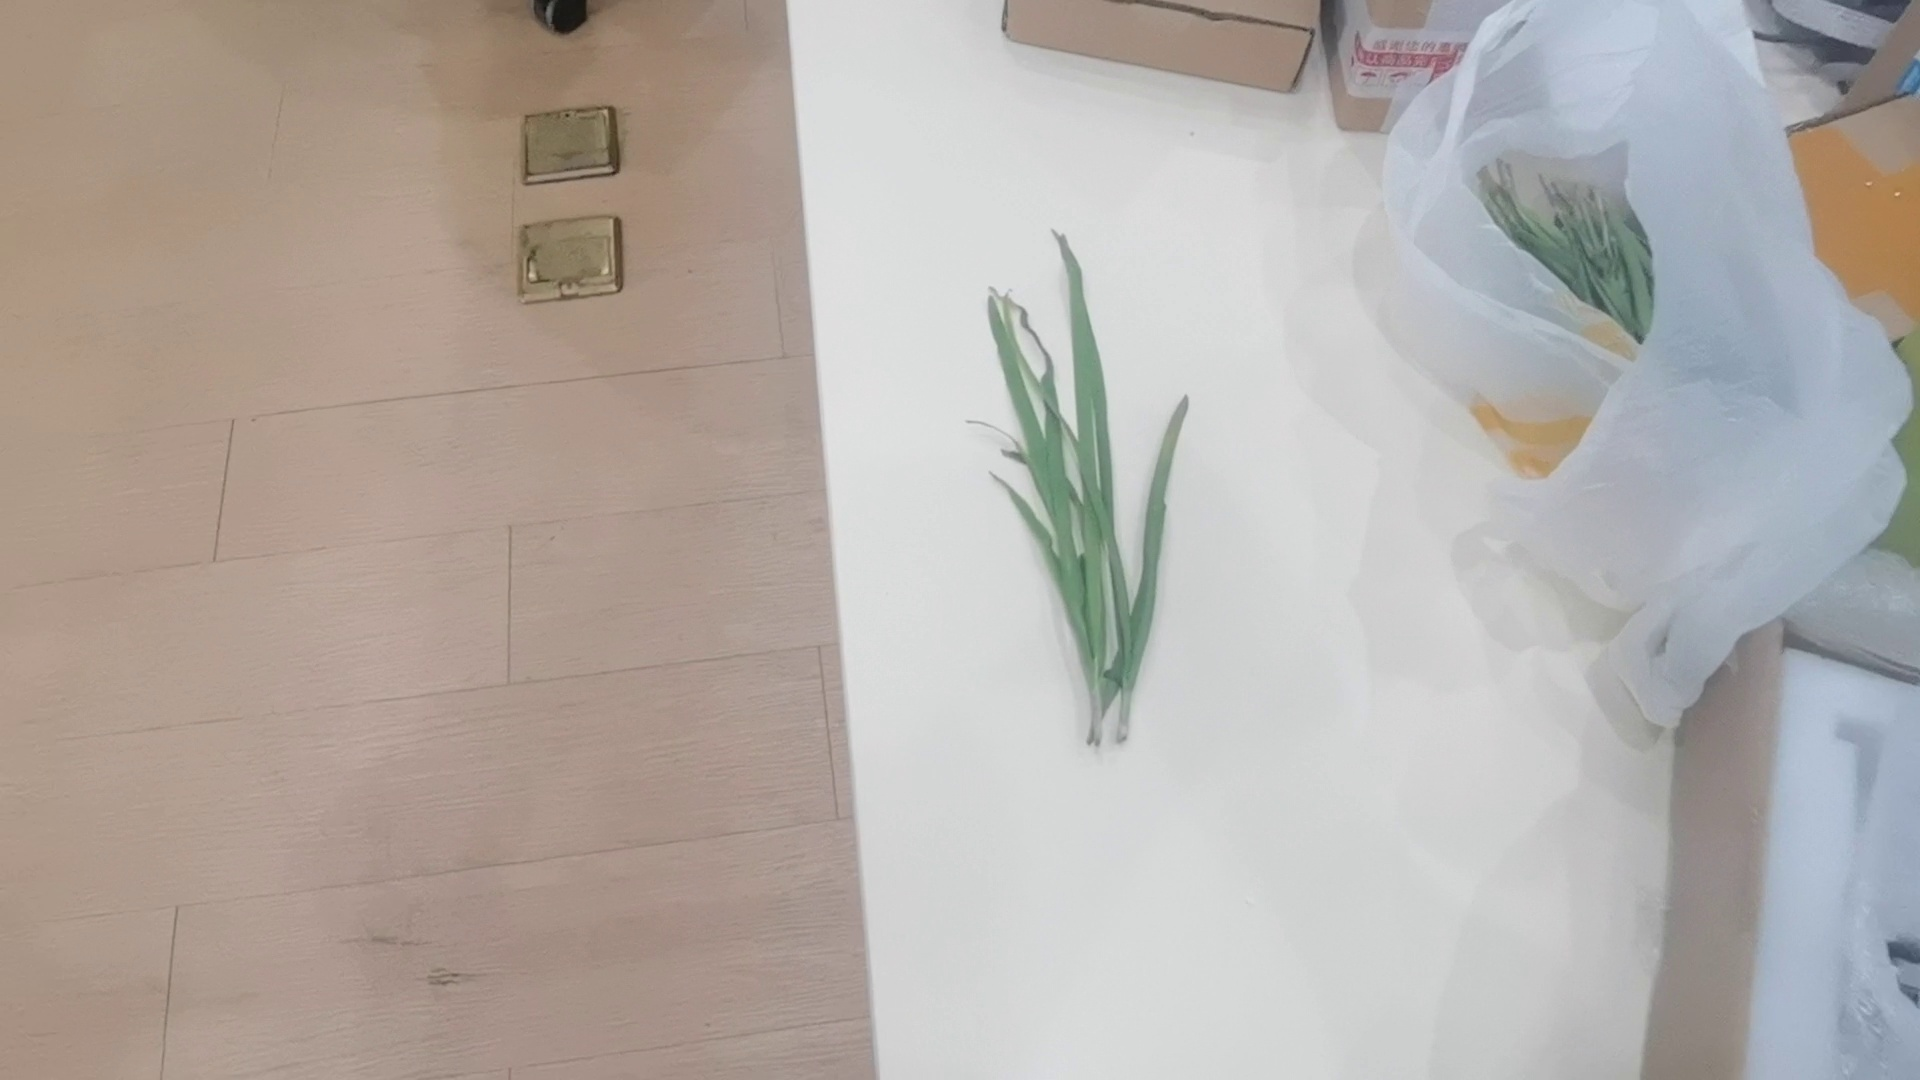chives: (967, 212, 1220, 774)
